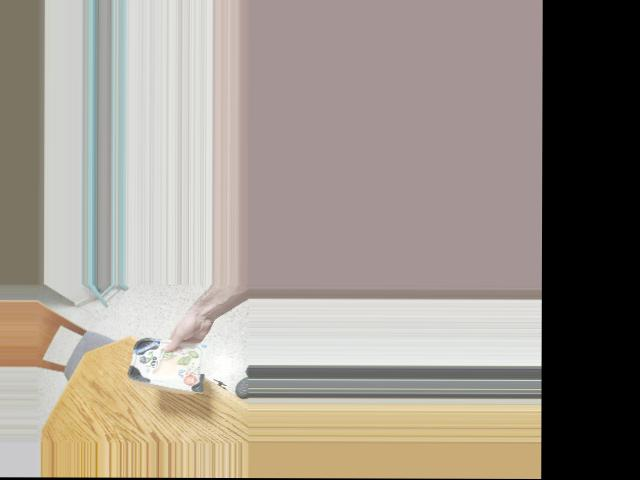cheese: (129, 323, 210, 397)
